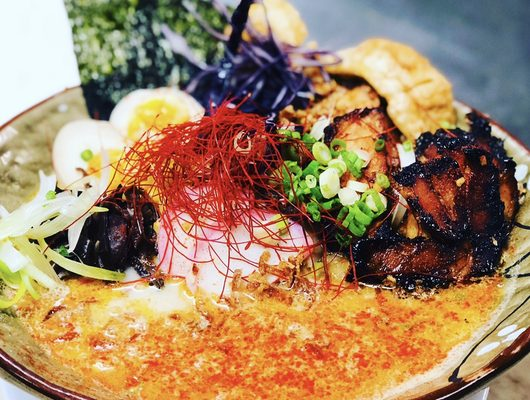sandwich: (1, 272, 518, 395)
